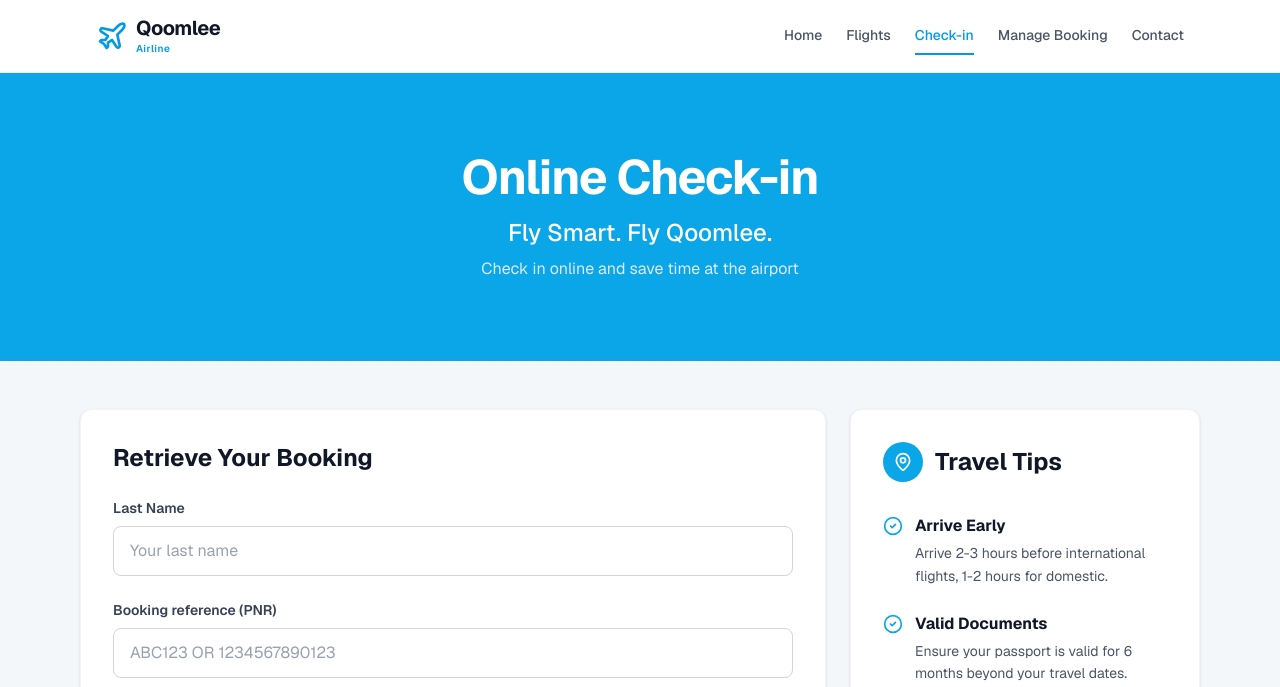
Test case: CheckinPage UI Tests › 2. should enable the submit button when Last Name and PNR are filled
This screenshot has width=1280, height=687.
# ทดสอบกรอกแค่ Last Name อย่างเดียว ปุ่มยังต้อง disable
Type "HUUM" into the field labelled "Last Name" at {"x": 453, "y": 551}, box [113,526,793,576]
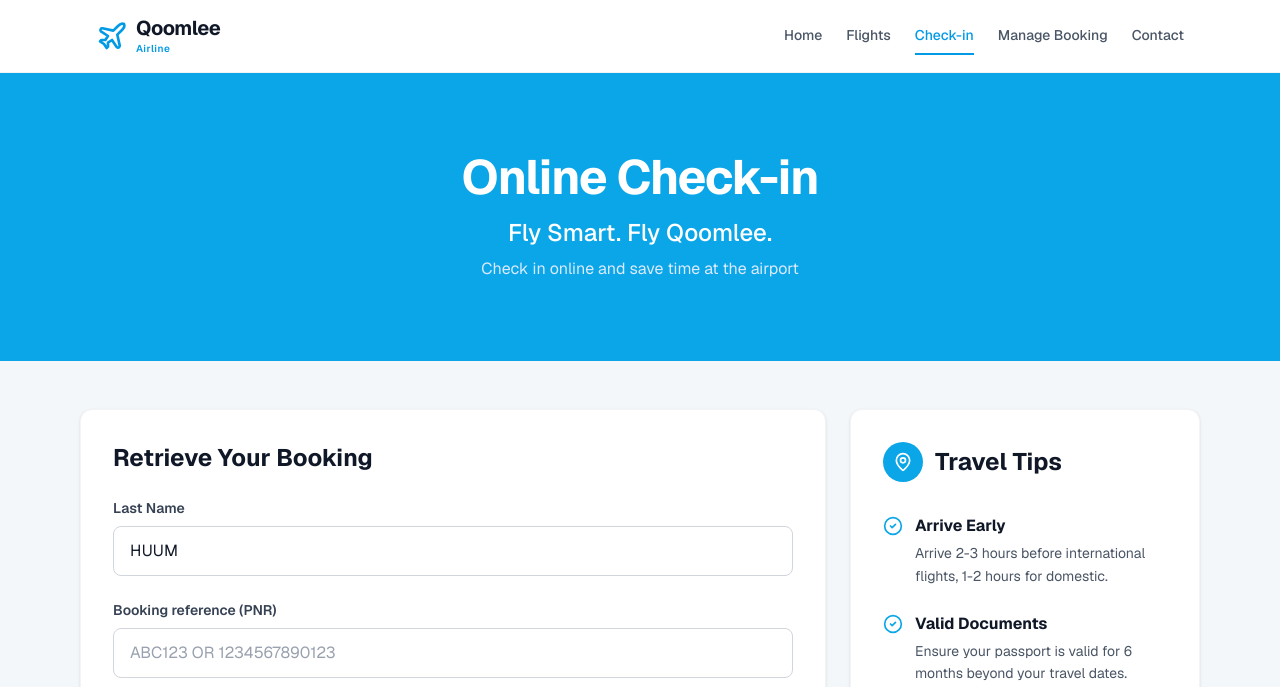
# ทดสอบกรอก PNR สมบูรณ์
Type "ABC123" into the field labelled "Booking reference (PNR)" at {"x": 453, "y": 653}, box [113,628,793,678]
(page scrolled)
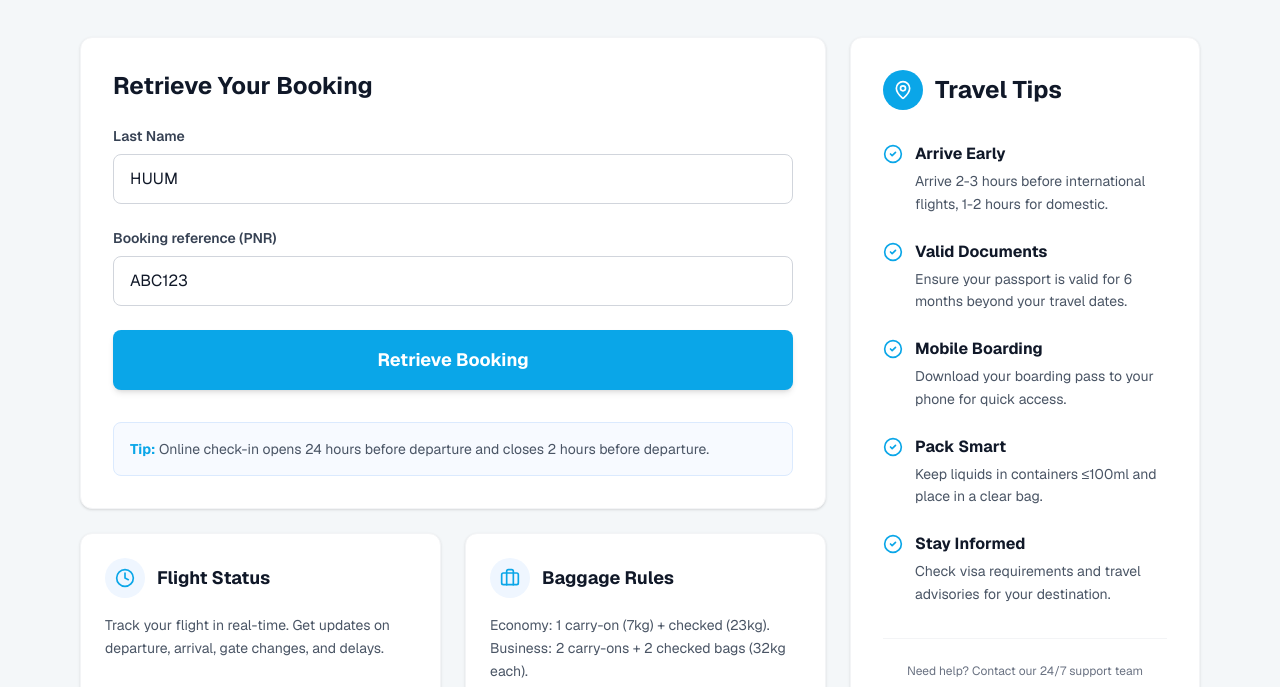
Expected: the button "Retrieve Booking" is enabled, [113,330,793,390]
